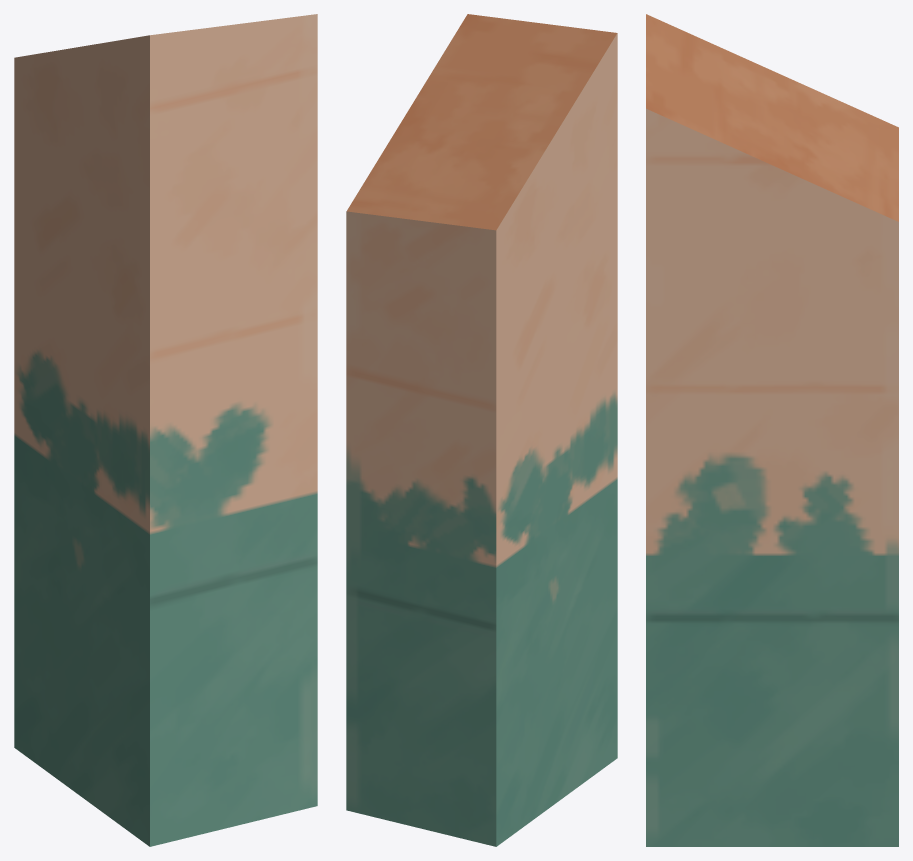
The model's file is wall2_arcade_s07.fbx.
3 views of the same model, side by side, from view 1: azimuth 30°, elevation 25°; view 2: azimuth 150°, elevation 25°; view 3: azimuth 270°, elevation 25° (orthographic). The views are drawn at different scales.
Parts seen in each view (by area): view 1: wall2_arcade_s07; view 2: wall2_arcade_s07; view 3: wall2_arcade_s07.
Boxes of the visible parts, left/top/right/bottom form: wall2_arcade_s07: left=14, top=14, right=317, bottom=846; wall2_arcade_s07: left=346, top=14, right=617, bottom=846; wall2_arcade_s07: left=646, top=14, right=898, bottom=846.
Size of the model in its own units: 1 by 4.62 by 1.4.
